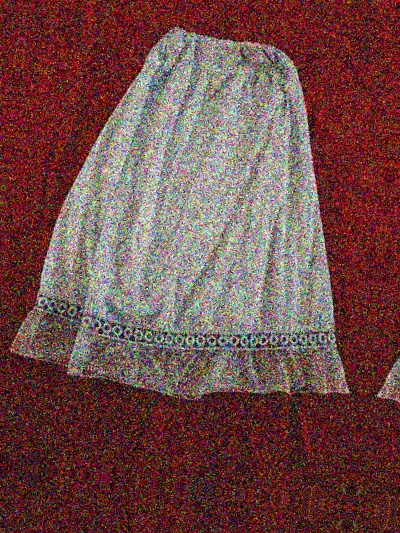Dress: (0, 5, 389, 455), (373, 51, 400, 501), (0, 515, 327, 533), (0, 0, 8, 408)
